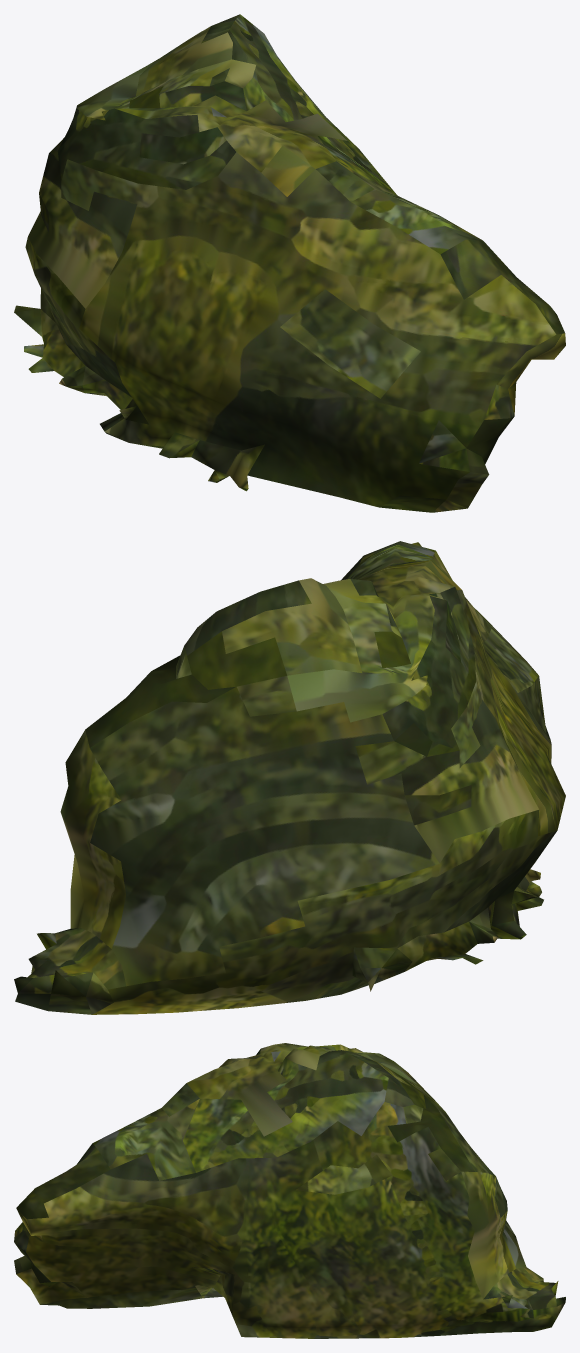
File: mossy+rock+3d+model(1).fbx
The picture shows the model from 3 angles, top to bottom: view 1: azimuth 30°, elevation 25°; view 2: azimuth 150°, elevation 25°; view 3: azimuth 270°, elevation 25°; orthographic projection. The views are drawn at different scales.
Parts seen in each view (by area): view 1: tripo_57fd94b9_d780_4f56_a78c_8114cd87a6e1; view 2: tripo_57fd94b9_d780_4f56_a78c_8114cd87a6e1; view 3: tripo_57fd94b9_d780_4f56_a78c_8114cd87a6e1.
Boxes of the visible parts, box(x1,y1,x2,y2) form: tripo_57fd94b9_d780_4f56_a78c_8114cd87a6e1: box(14, 14, 565, 512); tripo_57fd94b9_d780_4f56_a78c_8114cd87a6e1: box(14, 541, 565, 1014); tripo_57fd94b9_d780_4f56_a78c_8114cd87a6e1: box(14, 1043, 565, 1338).
Size of the model in its own units: 0.4907 by 0.5024 by 0.9995.
